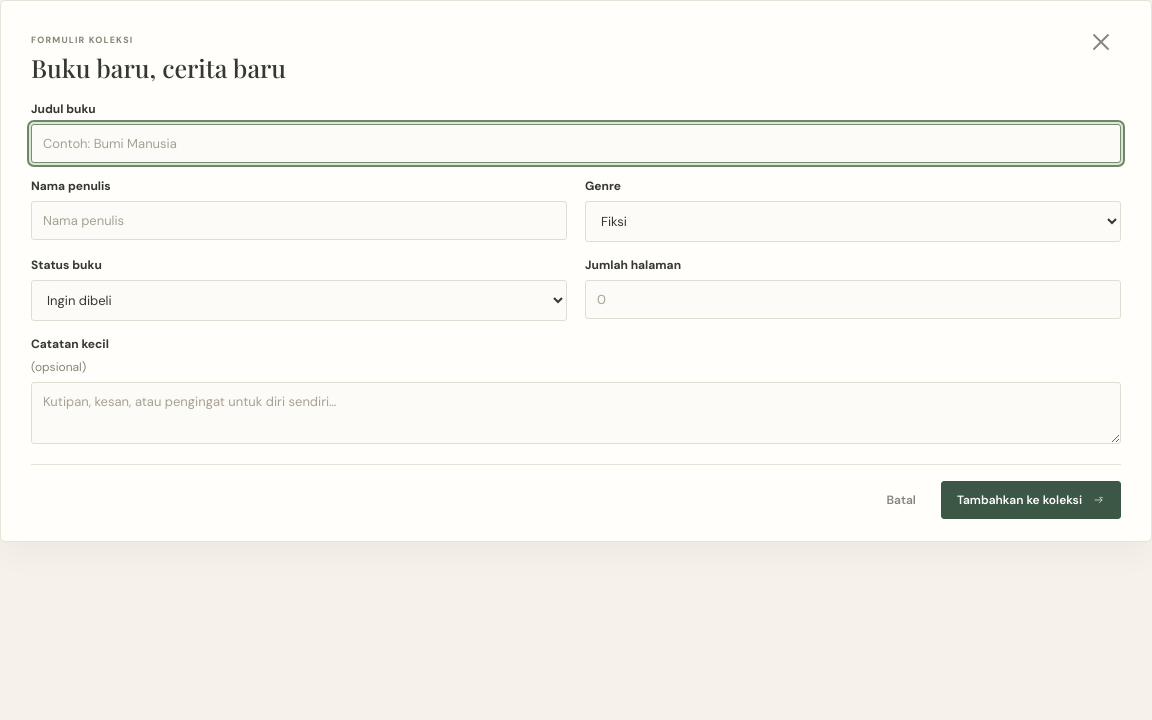
it: BookForm › menampilkan feedback visual saat judul dan penulis kosong
Step 1. Click the button "Tambahkan ke koleksi" → (1031, 500), box [941, 481, 1121, 519]
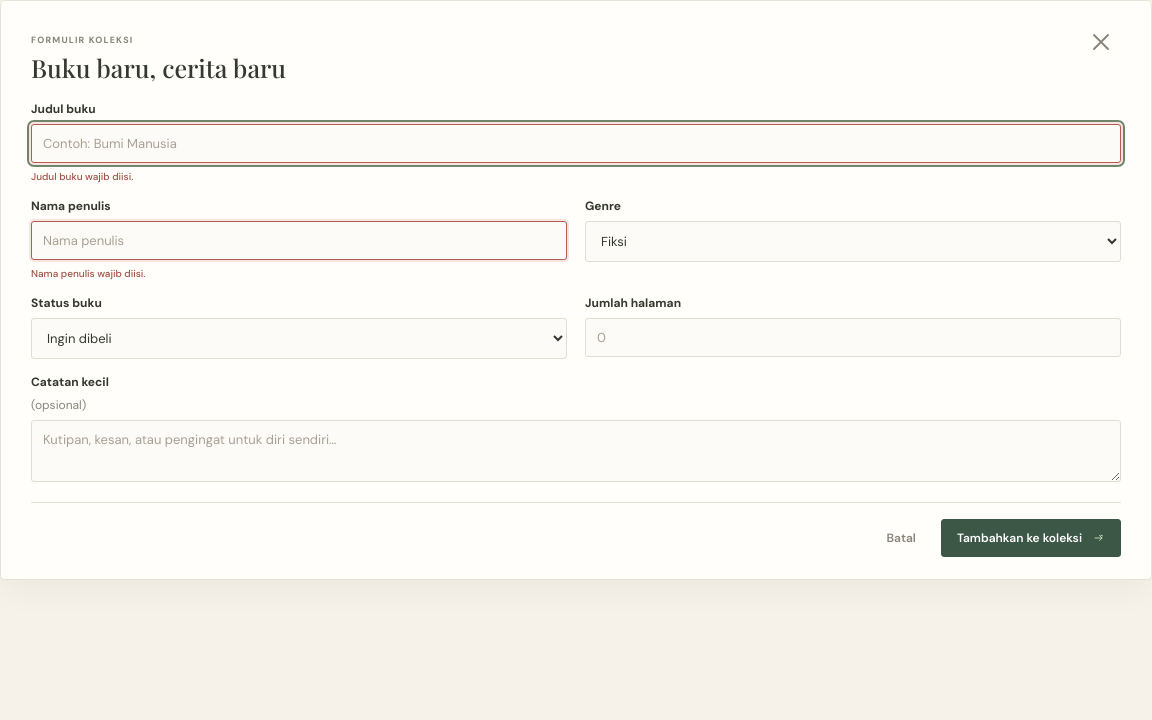
Result: the text "Judul buku wajib diisi." is shown at [31, 170, 133, 183]
Result: the text "Nama penulis wajib diisi." is shown at [31, 267, 146, 280]
